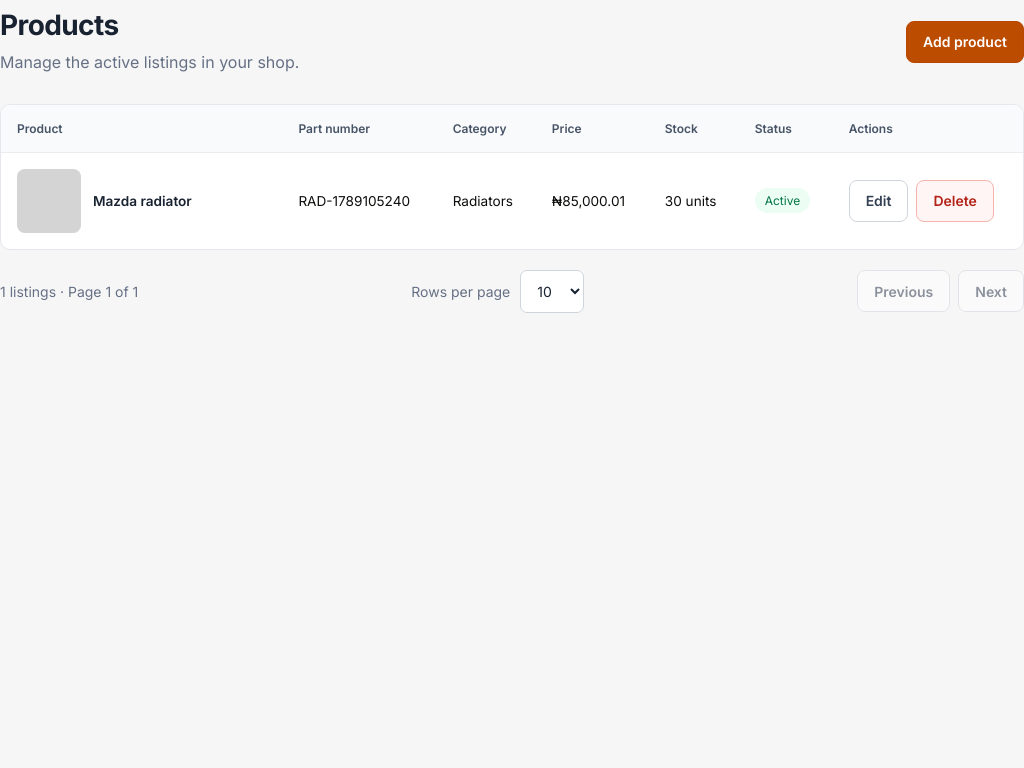
Test: keeps the row on delete failure and allows cancellation without a request
The image size is (1024, 768).
Click the button with aria-label "Delete Mazda radiator" at coordinates (955, 201), box [916,180,994,222]
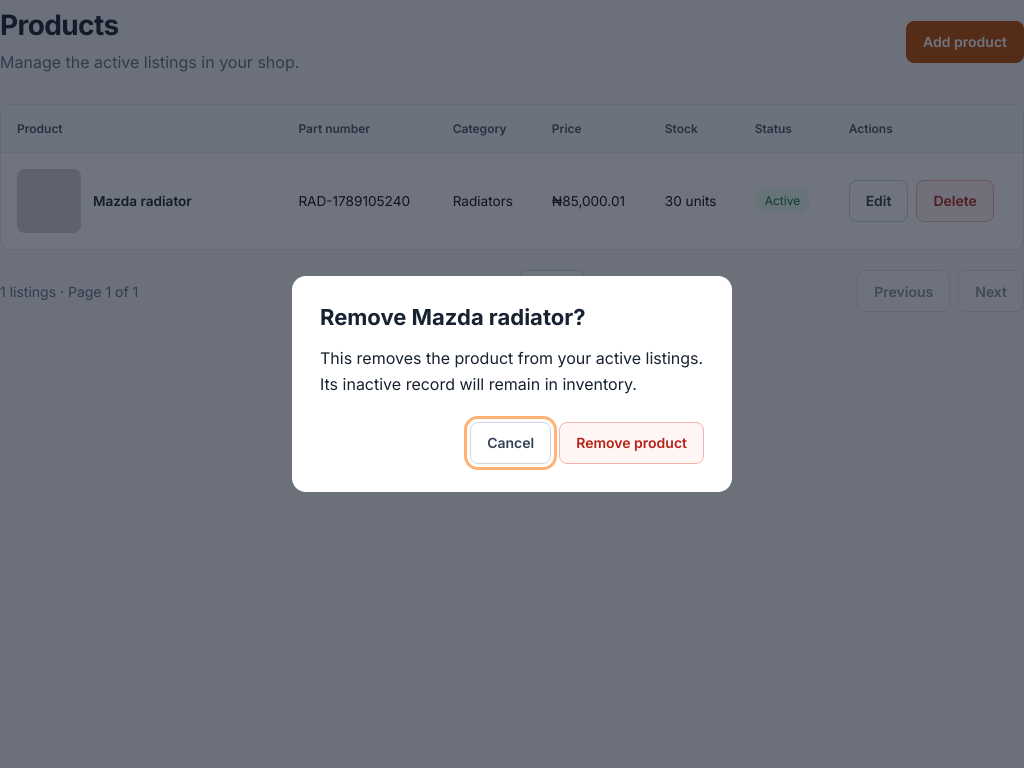
Click the button "Cancel" at coordinates (511, 443), box [470,422,551,464]
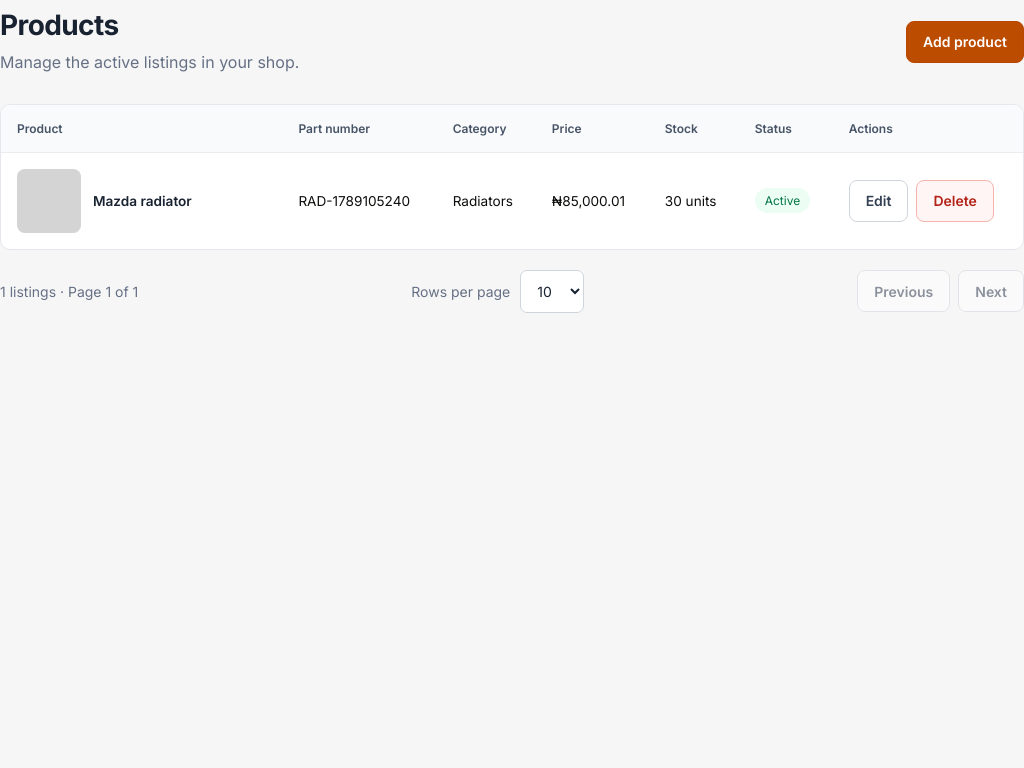
Click the button with aria-label "Delete Mazda radiator" at coordinates (955, 201), box [916,180,994,222]
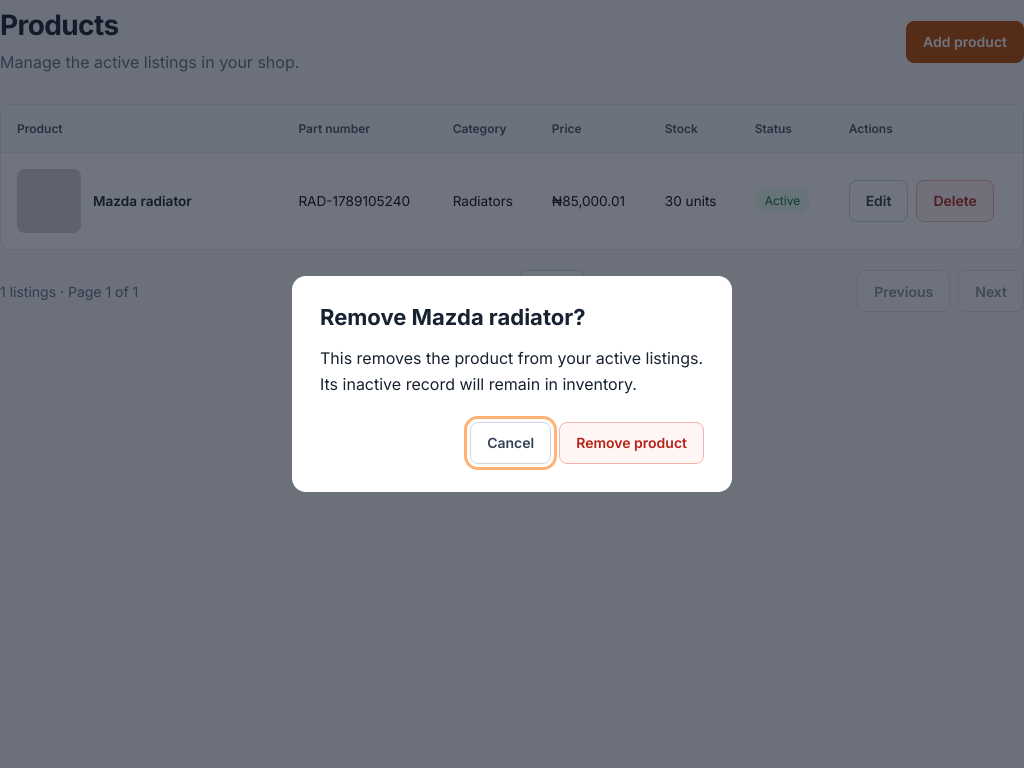
Click the button "Remove product" at coordinates (632, 443), box [559,422,704,464]
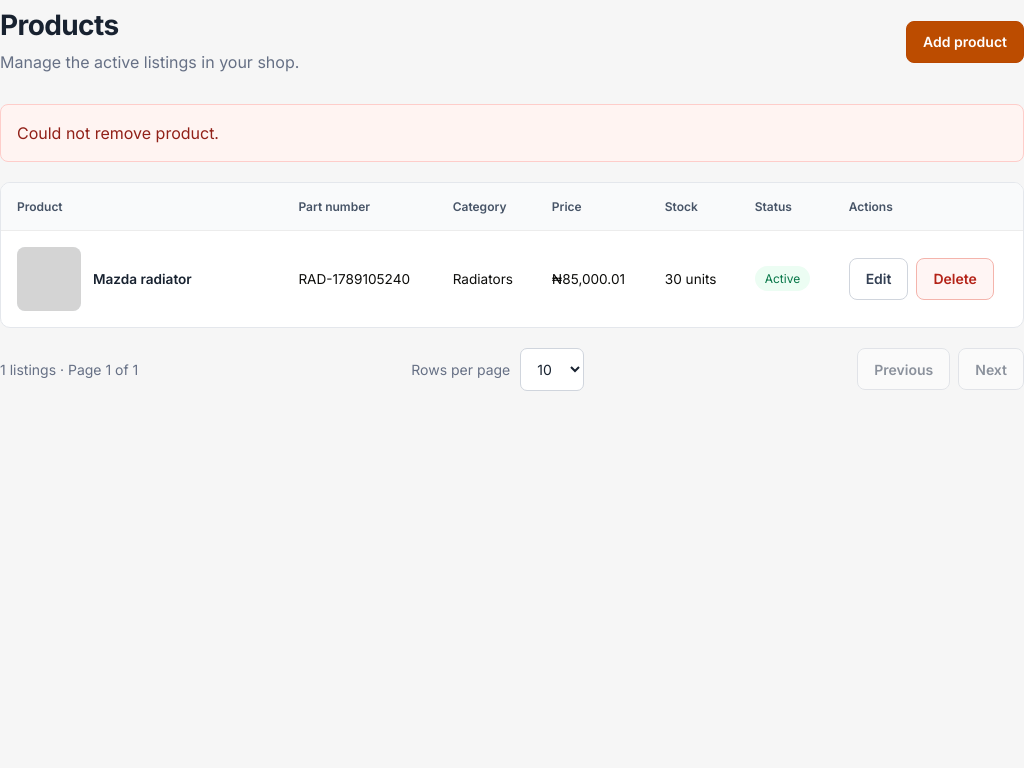
Expected: the text "Mazda radiator" is shown, [93,271,192,287]
Now the message reads "Could not remove product.", box [17,123,219,143]
